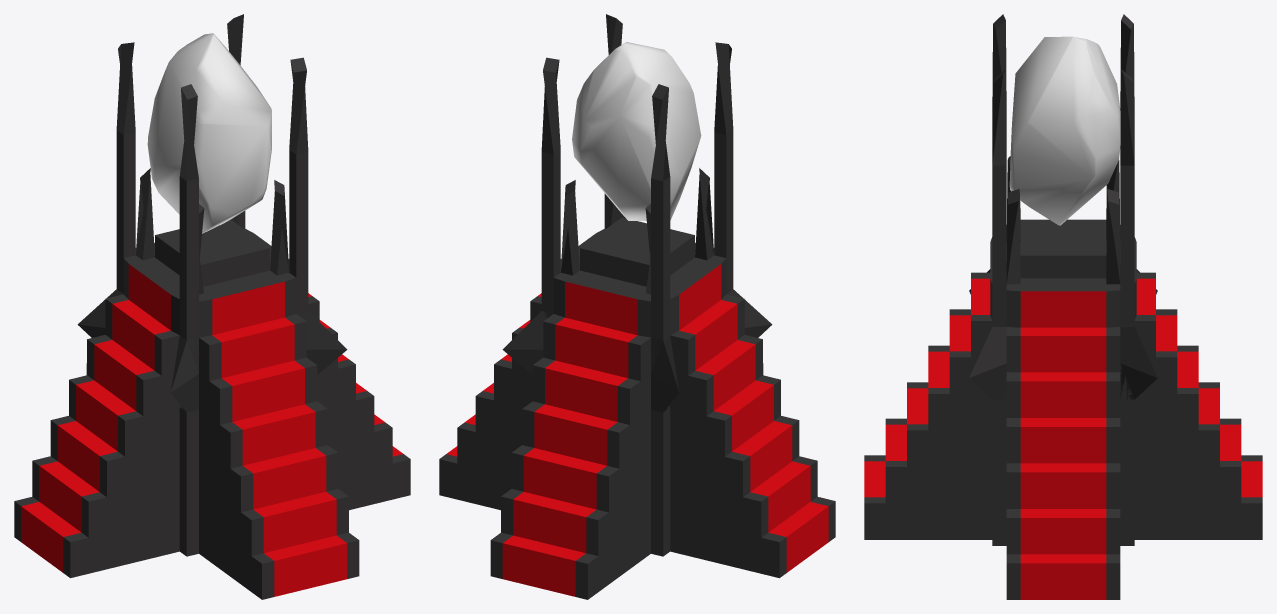
The model's file is FireTowerLVL2.fbx.
The picture shows the model from 3 angles, left to right: view 1: azimuth 30°, elevation 25°; view 2: azimuth 150°, elevation 25°; view 3: azimuth 270°, elevation 25°; orthographic projection.
Parts seen in each view (by area): view 1: Cube, Sphere; view 2: Cube, Sphere; view 3: Cube, Sphere.
Boxes of the visible parts, x1,y1,x2,y2 form: Cube: [14, 14, 410, 599]; Sphere: [147, 33, 271, 233]; Cube: [439, 14, 835, 599]; Sphere: [572, 42, 701, 220]; Cube: [864, 14, 1262, 599]; Sphere: [1009, 36, 1120, 225].
Size of the model in its own units: 600 by 802 by 600.
